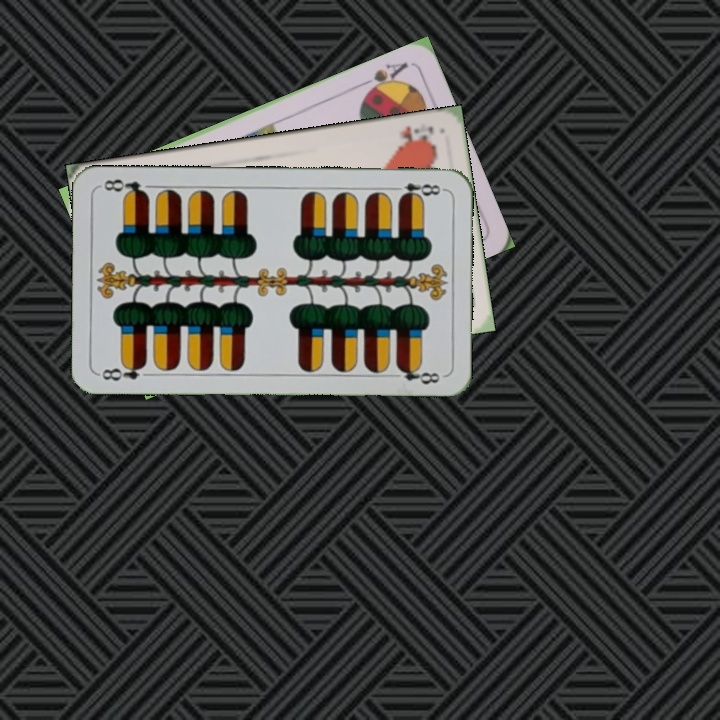E8: (387, 179, 446, 202), (96, 359, 149, 384)
HO: (393, 119, 436, 149)
SA: (355, 58, 411, 98)
